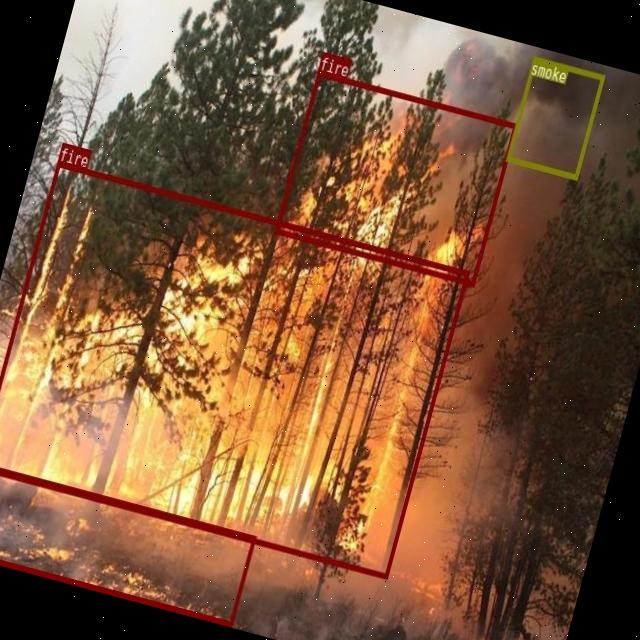fire: (0, 159, 469, 578), (274, 70, 516, 284), (0, 456, 255, 625)
smoke: (506, 56, 604, 180)
